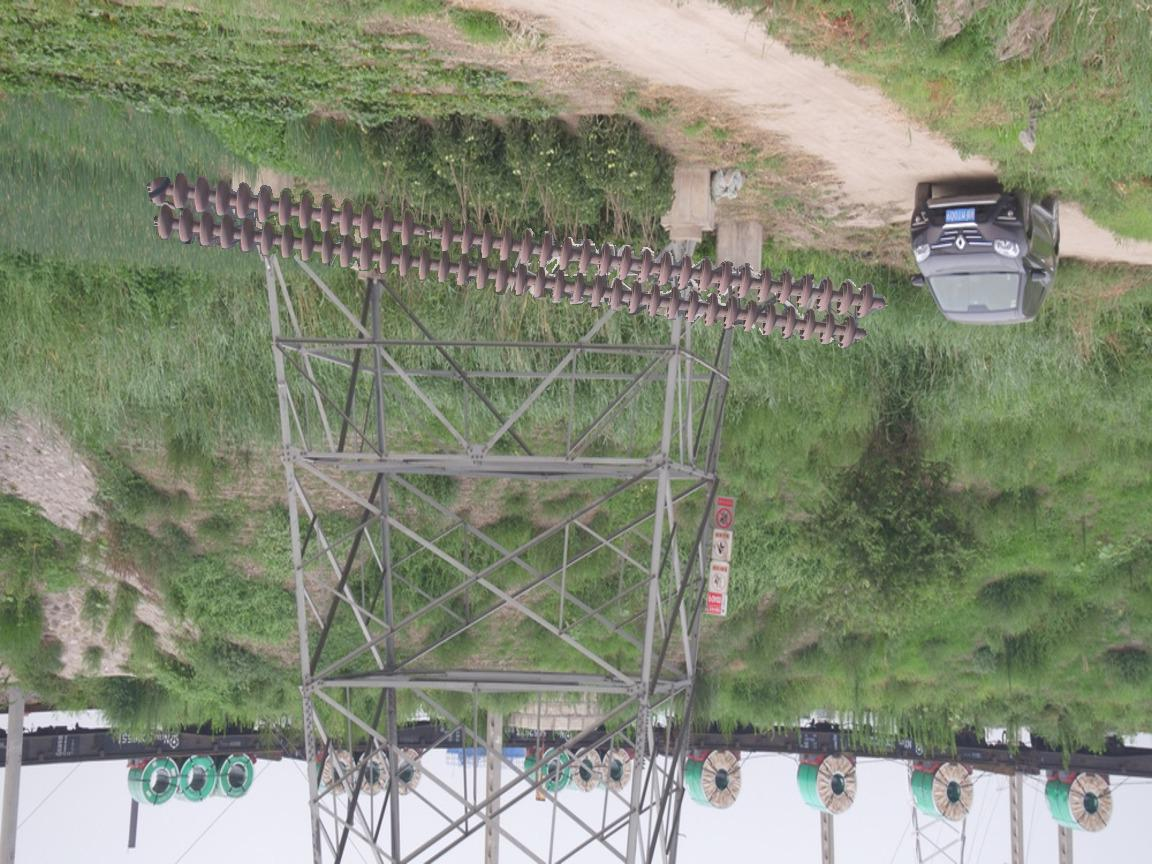insulator: (140, 167, 878, 352)
insulator_stringdrop: (398, 209, 456, 255)
